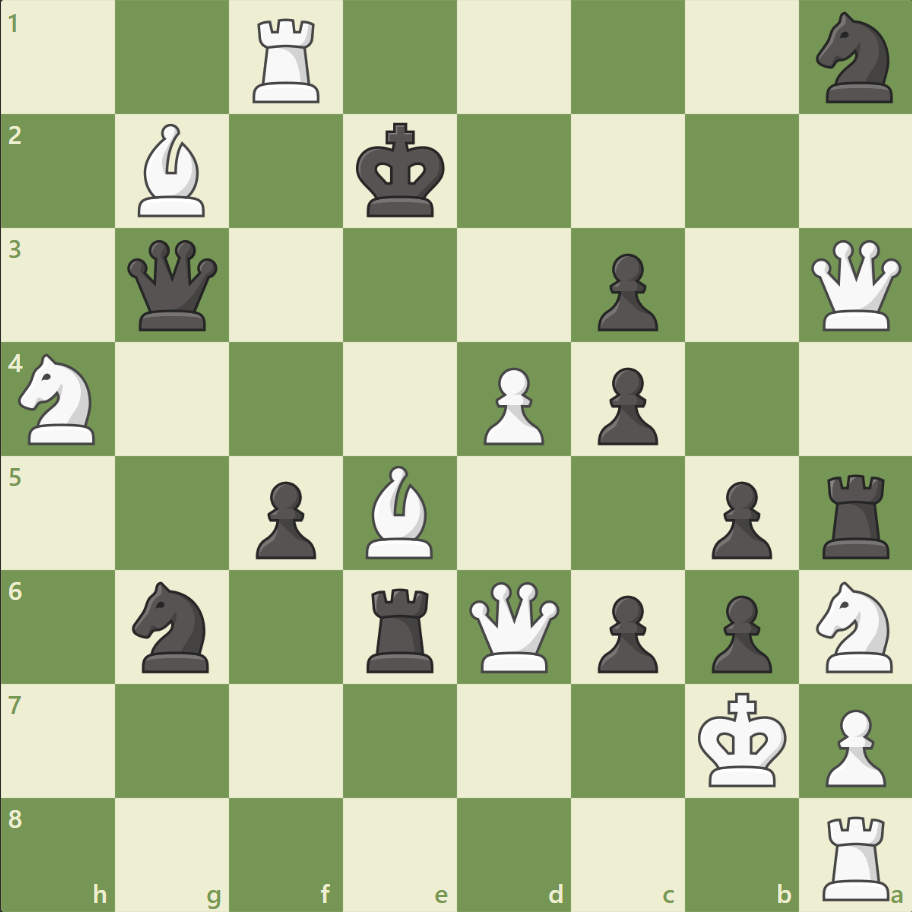B: (358, 460, 442, 563), (131, 120, 215, 222)
K: (692, 685, 792, 793)
N: (806, 575, 903, 677), (11, 348, 108, 450)
P: (474, 359, 549, 450), (815, 700, 889, 791)
Q: (464, 576, 563, 676), (805, 236, 904, 335)
R: (814, 806, 897, 904), (246, 12, 329, 109)
k: (351, 117, 451, 225)
n: (124, 575, 222, 677), (806, 7, 903, 110)
p: (701, 586, 776, 677), (701, 473, 776, 564), (247, 473, 322, 564), (588, 586, 662, 677), (588, 359, 662, 450), (588, 246, 662, 337)
q: (124, 236, 223, 335)
r: (814, 466, 897, 563), (360, 579, 442, 676)
